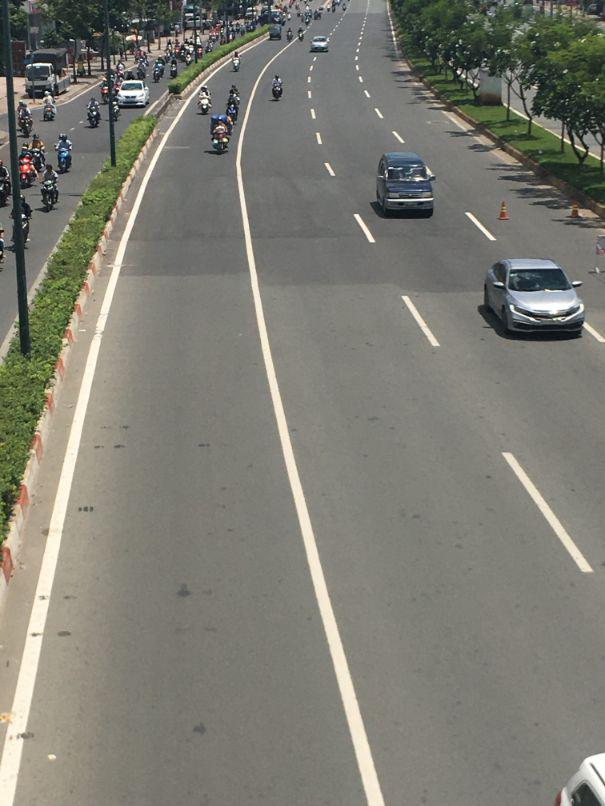car: (483, 256, 587, 340), (375, 150, 439, 219), (116, 80, 148, 105), (310, 34, 330, 52)
motorbike: (211, 119, 231, 153), (41, 180, 61, 213), (87, 102, 101, 128), (273, 75, 285, 99), (197, 96, 211, 116)
truck: (27, 55, 68, 103)
